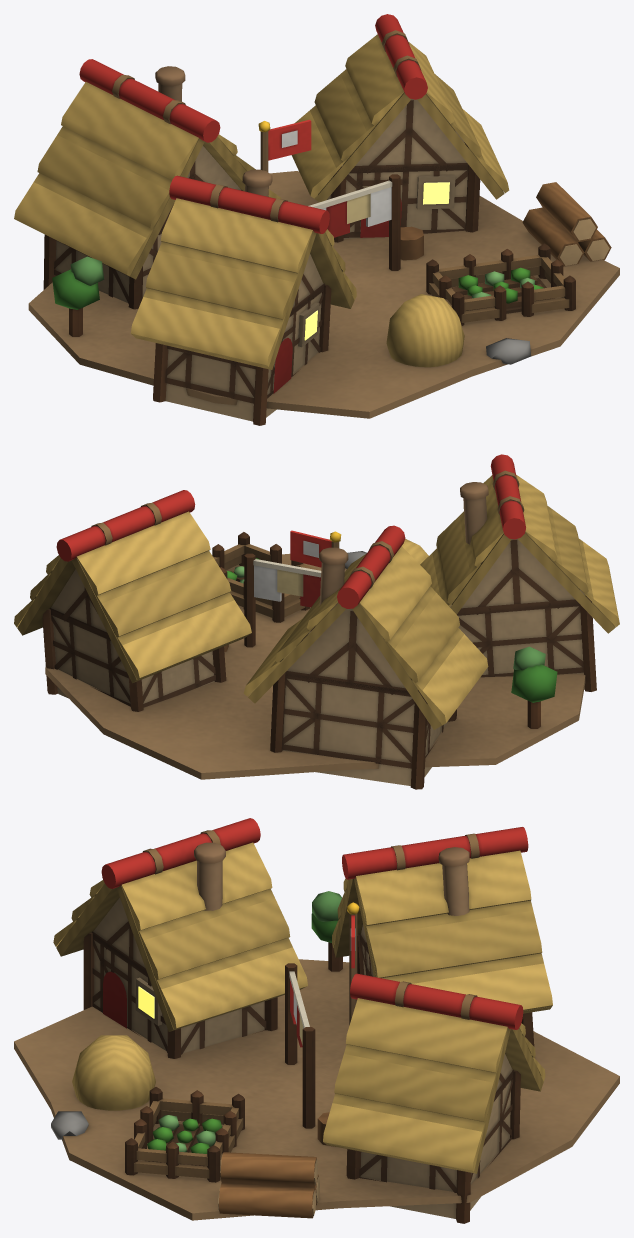
File: city_dl1_red.glb
The picture shows the model from 3 angles, top to bottom: view 1: azimuth 30°, elevation 25°; view 2: azimuth 150°, elevation 25°; view 3: azimuth 270°, elevation 25°; orthographic projection. The views are drawn at different scales.
Parts seen in each view (by area): view 1: city_dl1_red; view 2: city_dl1_red; view 3: city_dl1_red.
Boxes of the visible parts, x1=… form: city_dl1_red: x1=14, y1=14, x2=619, y2=425; city_dl1_red: x1=14, y1=454, x2=619, y2=789; city_dl1_red: x1=14, y1=818, x2=619, y2=1223.
Size of the model in its own units: 1.4 by 0.5666 by 1.37.
Materials: 2 (1 with a texture image).
